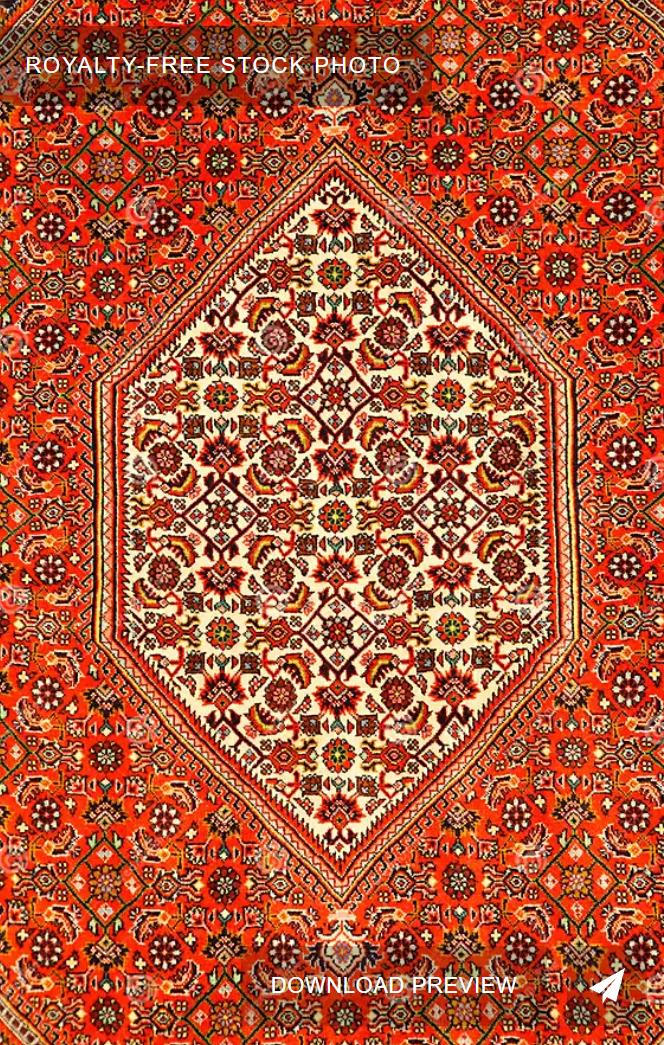carpet: (4, 0, 661, 1044)
